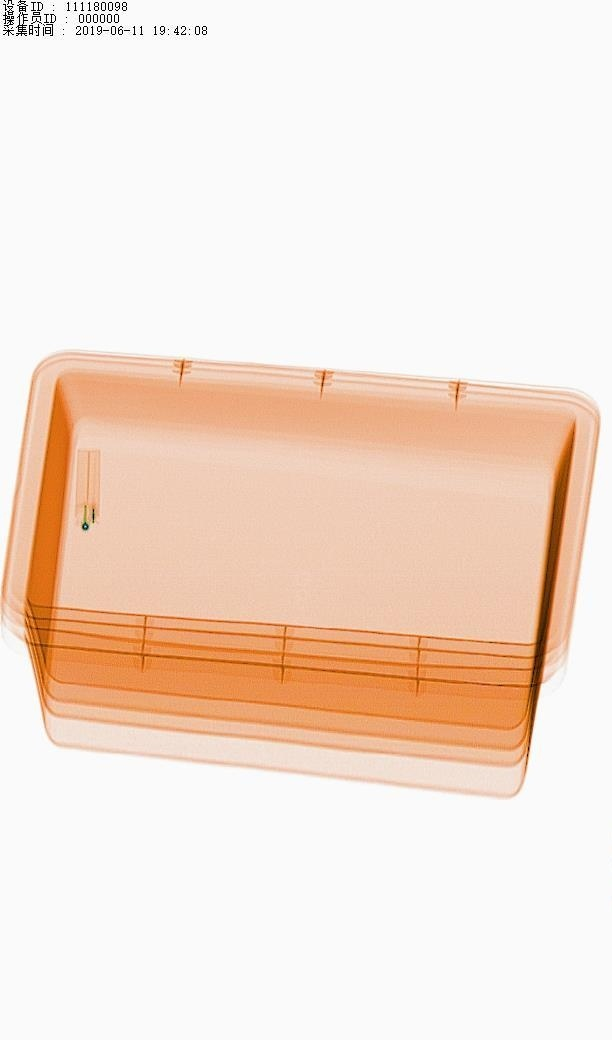NonmetallicFire: (59, 432, 129, 542)
